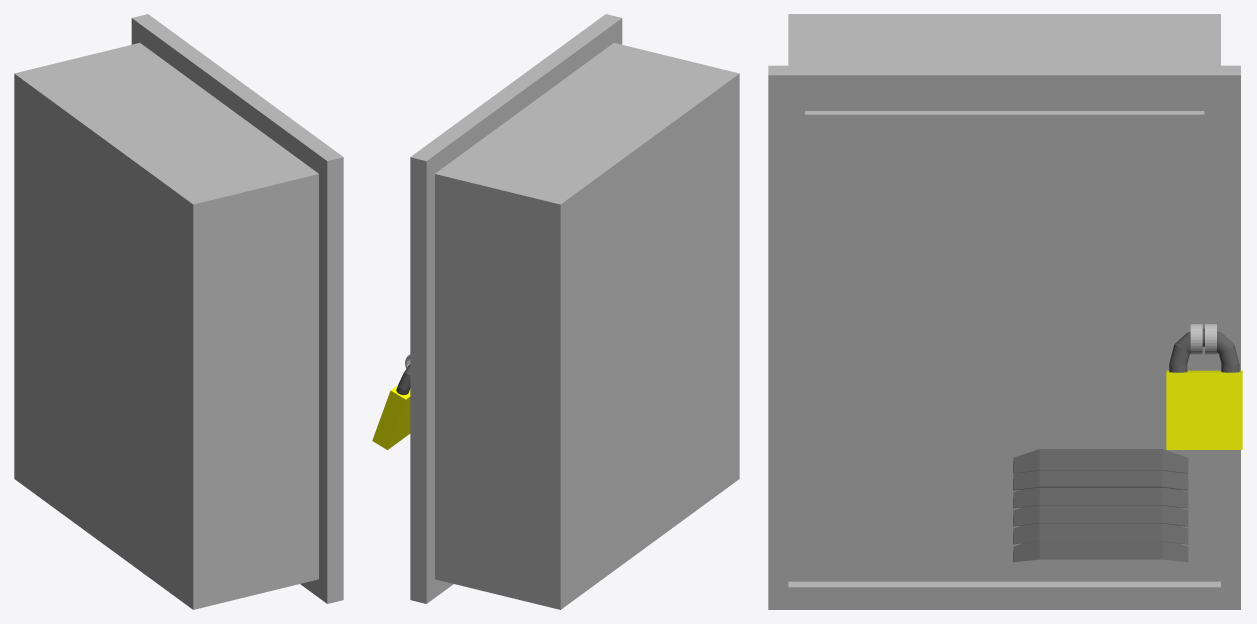
File: Caixa de luz.fbx
3 renders of one model, left to right at view 1: azimuth 30°, elevation 25°; view 2: azimuth 150°, elevation 25°; view 3: azimuth 270°, elevation 25°, orthographic. The views are drawn at different scales.
Visible parts, largest first — view 1: Cube; view 2: Cube, Cube.007; view 3: Cube, Cube.007, Cube.001, Cube.006, Cube.003, Cube.004, Cube.005, Cube.002, Cylinder.
Part boxes in pixels (x1=…): Cube: x1=14, y1=14, x2=343, y2=609; Cube: x1=410, y1=14, x2=739, y2=609; Cube.007: x1=372, y1=385, x2=410, y2=449; Cube: x1=768, y1=14, x2=1240, y2=609; Cube.007: x1=1166, y1=370, x2=1242, y2=449; Cube.001: x1=1013, y1=449, x2=1188, y2=473; Cube.006: x1=1013, y1=505, x2=1188, y2=526; Cube.003: x1=1013, y1=487, x2=1188, y2=508; Cube.004: x1=1013, y1=541, x2=1188, y2=562; Cube.005: x1=1013, y1=523, x2=1188, y2=544; Cube.002: x1=1013, y1=470, x2=1188, y2=490; Cylinder: x1=1169, y1=328, x2=1239, y2=372.
Size of the model in its own units: 286 by 675 by 542.
